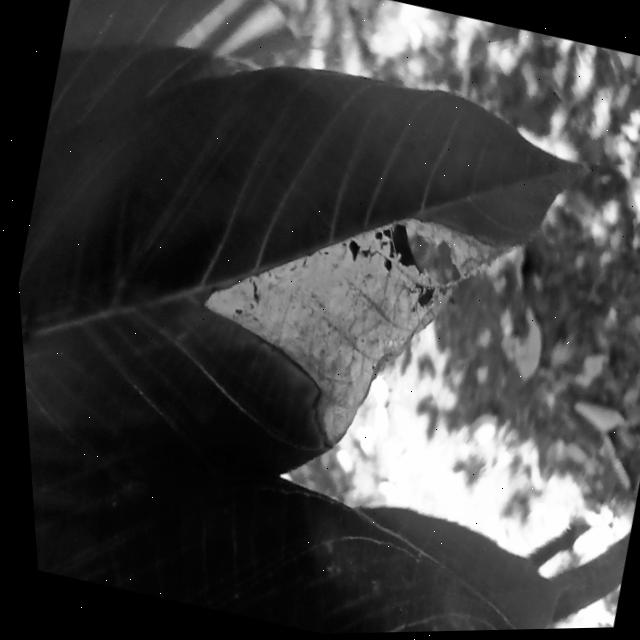Leaf-Blight: (163, 168, 513, 483)
